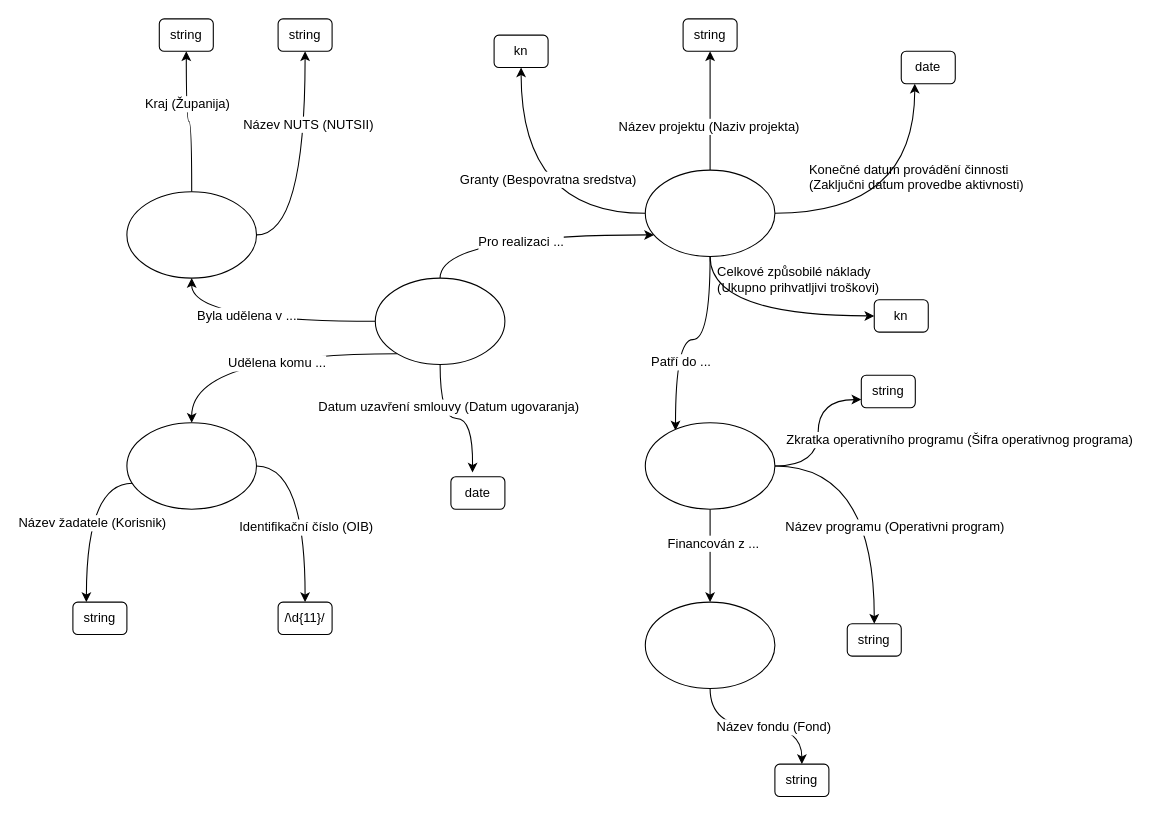
This 1151x815 diagram has some shape labels left out. The shapes that lost their labels are listed below. From the top down, each one's centre as x and y in pixels, then its label:
At point 709,212: "Projekt".
At point 191,234: "Samosprávný celek".
At point 439,320: "dotace".
At point 191,465: "Žadatel".
At point 709,465: "Program".
At point 709,644: "Fond".
